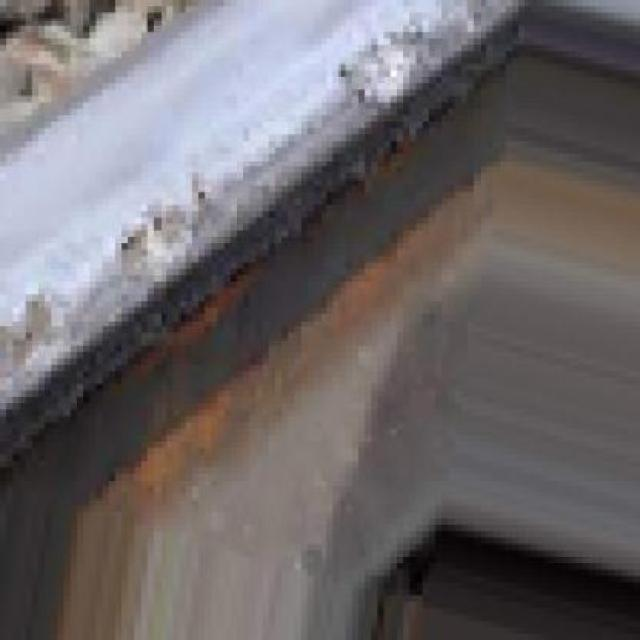defective: (0, 3, 535, 640)
